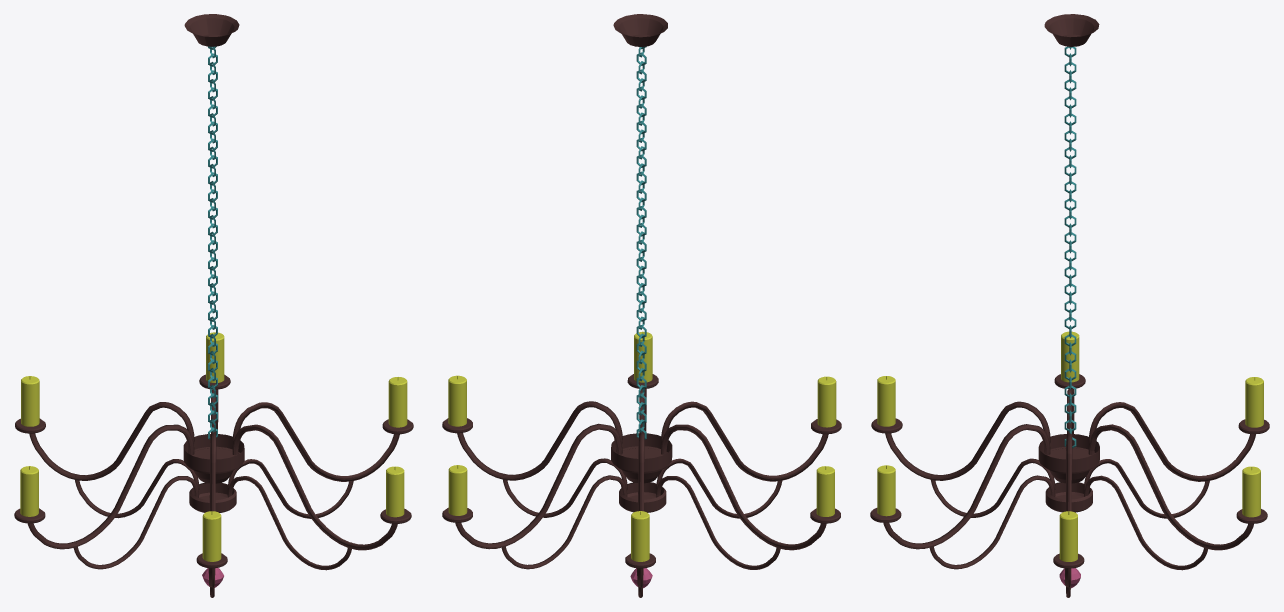
The model's file is long_chain_chandelier.fbx.
3 views of the same model, side by side, from view 1: azimuth 30°, elevation 25°; view 2: azimuth 150°, elevation 25°; view 3: azimuth 270°, elevation 25° (orthographic).
Visible parts, largest first — view 1: gwm1; view 2: gwm1; view 3: gwm1.
Part boxes in pixels (left/top/right/bottom): gwm1: left=14, top=14, right=413, bottom=597; gwm1: left=442, top=14, right=841, bottom=597; gwm1: left=870, top=14, right=1269, bottom=597.
Bounding box in the file's own units: 2.38 × 3.25 × 2.09.
